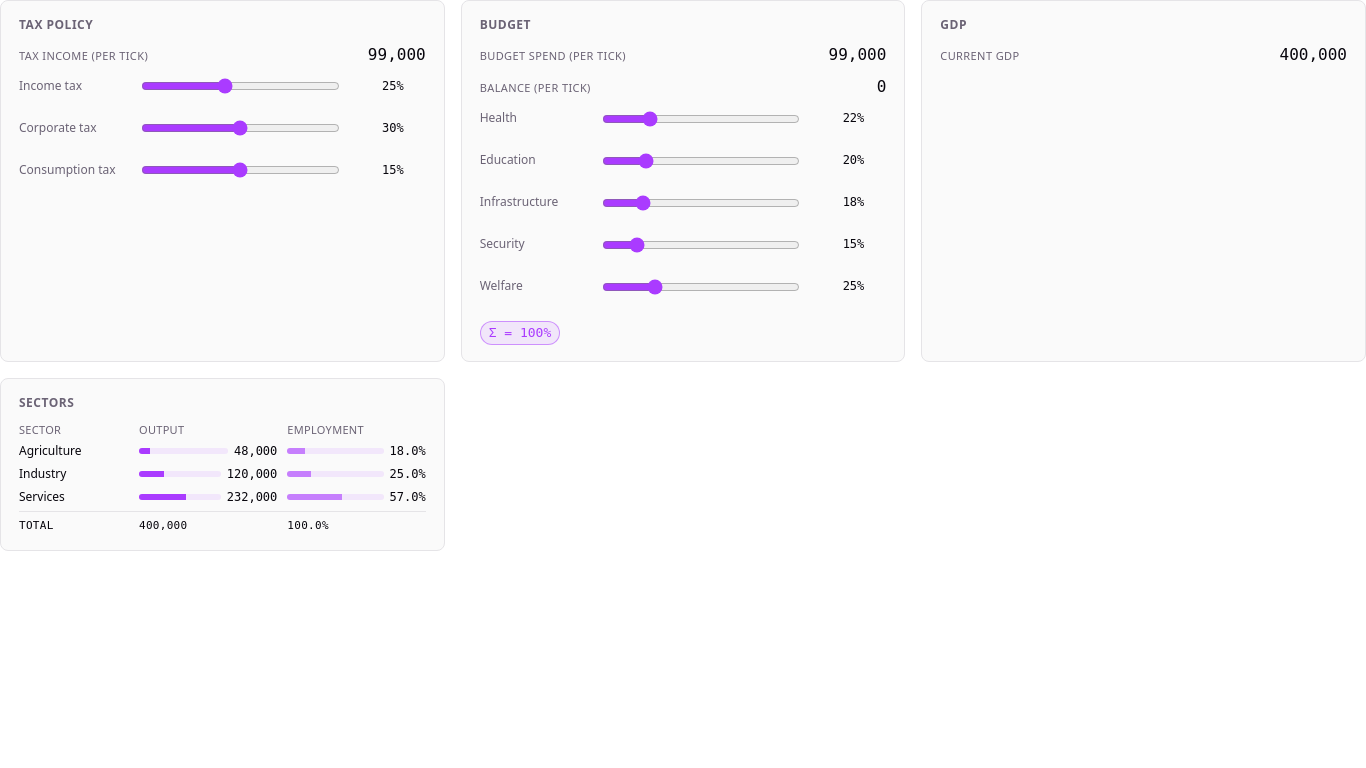
T-023 — recently-changed indicator lights up after a commit › shows the indicator on the matching slider for the tick after commit
This screenshot has width=1366, height=768.
Step 1. Set the slider labelled "Income tax" to "28" → {"x": 234, "y": 86}, box [141,78,340,94]
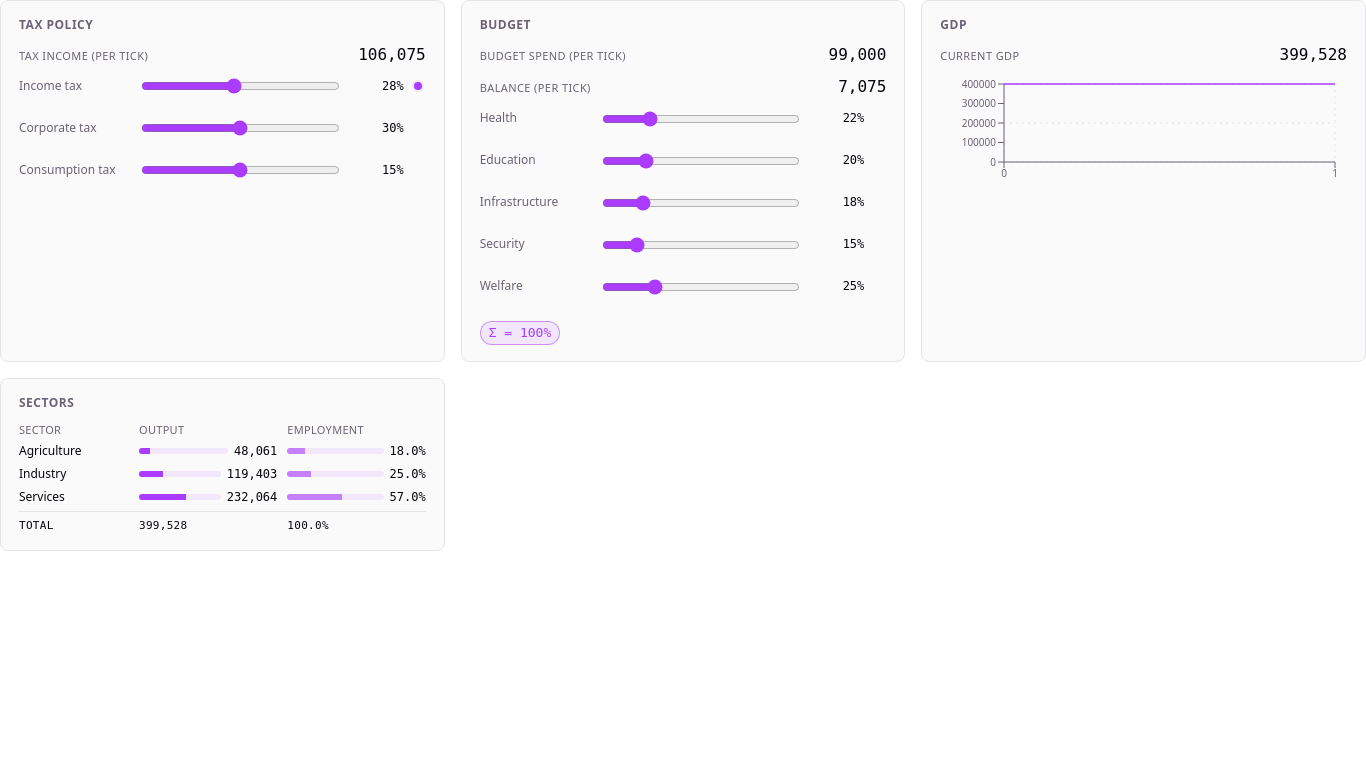
Now the element with test id "slider-tax_income-recent" is shown, box [414,82,422,90]
